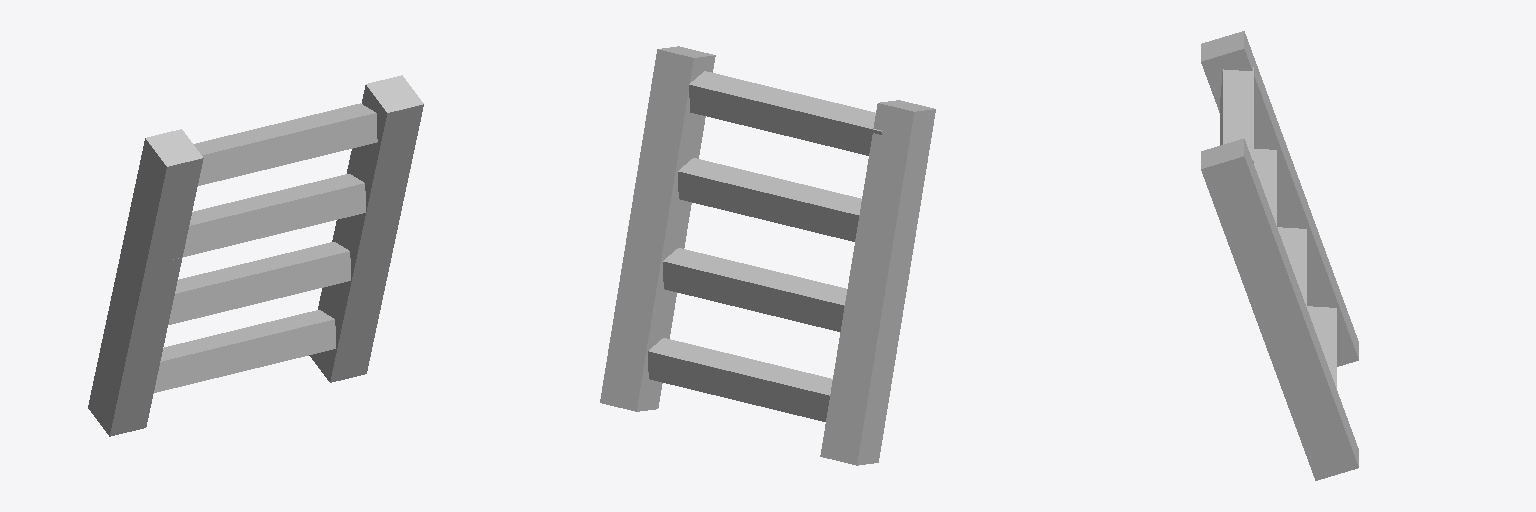
The model's file is fu_ti_block_top.obj.
3 renders of one model, left to right at view 1: azimuth 30°, elevation 25°; view 2: azimuth 150°, elevation 25°; view 3: azimuth 270°, elevation 25°, orthographic.
Parts seen in each view (by area): view 1: cube16, cube17, cube15, cube14, cube12, cube13; view 2: cube16, cube17, cube12, cube13, cube14, cube15; view 3: cube17, cube16, cube12, cube13, cube14, cube15.
Boxes of the visible parts, x1,y1,x2,y2 form: cube16: [88, 129, 203, 436]; cube17: [309, 75, 423, 382]; cube15: [173, 174, 365, 259]; cube14: [168, 242, 350, 324]; cube12: [194, 103, 377, 185]; cube13: [154, 310, 335, 392]; cube16: [820, 100, 935, 465]; cube17: [600, 46, 715, 411]; cube12: [689, 71, 882, 155]; cube13: [648, 338, 832, 421]; cube14: [663, 248, 846, 331]; cube15: [678, 158, 861, 241]; cube17: [1201, 139, 1358, 480]; cube16: [1201, 31, 1358, 366]; cube12: [1220, 67, 1253, 162]; cube13: [1307, 306, 1336, 388]; cube14: [1277, 227, 1306, 306]; cube15: [1254, 149, 1276, 225].
Size of the model in its own units: 0.875 by 1.06 by 0.4666.